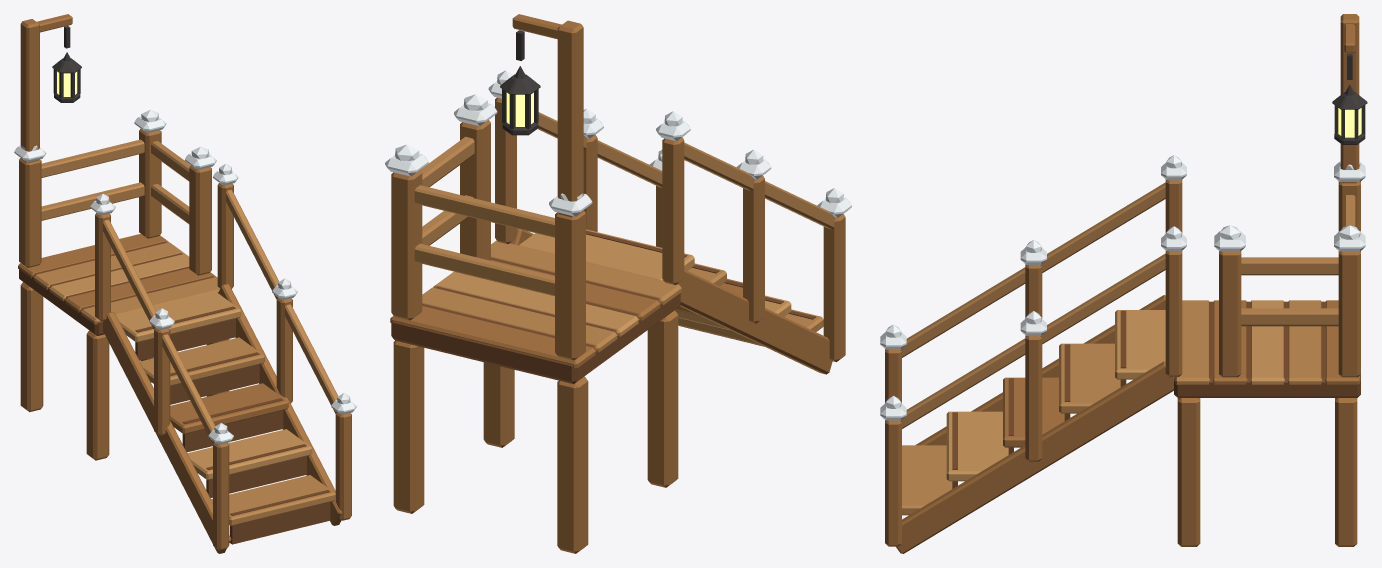
The model's file is mod_stairs_landing_1m.glb.
The picture shows the model from 3 angles, left to right: view 1: azimuth 30°, elevation 25°; view 2: azimuth 150°, elevation 25°; view 3: azimuth 270°, elevation 25°; orthographic projection. The views are drawn at different scales.
Visible parts, largest first — view 1: mod_stairs_landing_1m, part_landing_lantern; view 2: mod_stairs_landing_1m, part_landing_lantern; view 3: mod_stairs_landing_1m, part_landing_lantern.
Boxes of the visible parts, x1,y1,x2,y2 form: mod_stairs_landing_1m: (14,14,356,553); part_landing_lantern: (52,26,81,102); mod_stairs_landing_1m: (385,14,851,553); part_landing_lantern: (500,30,540,135); mod_stairs_landing_1m: (880,14,1365,553); part_landing_lantern: (1332,54,1367,144).
Size of the model in its own units: 1.05 by 2.76 by 2.6.
